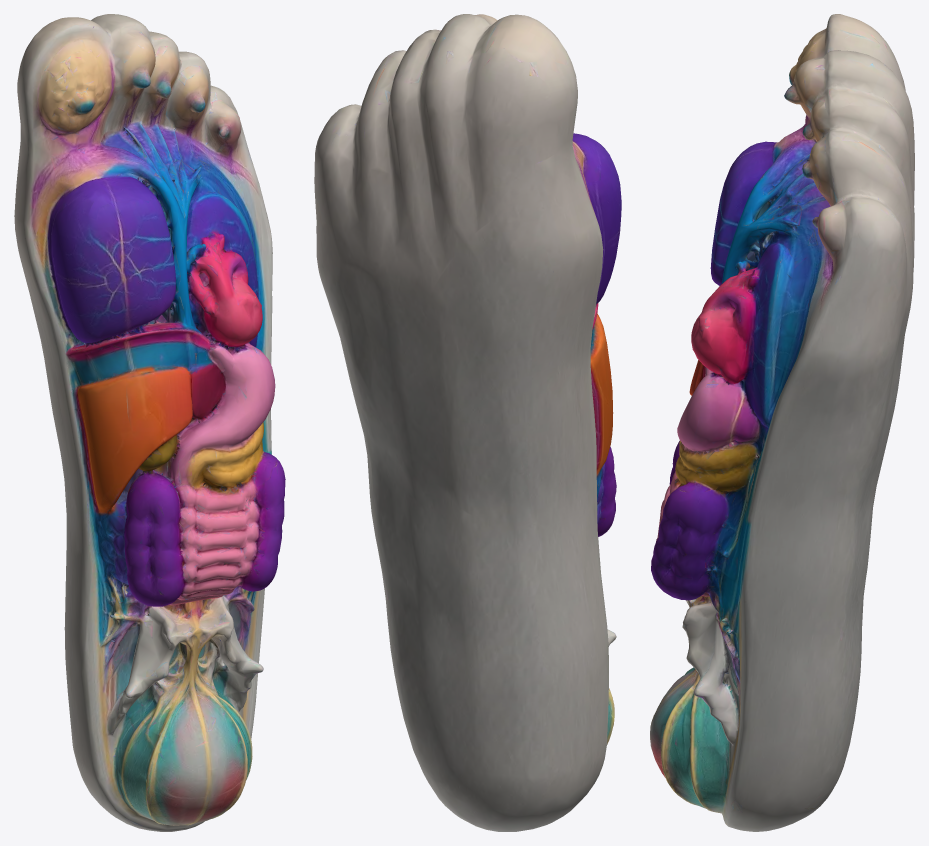
File: foot-organs.glb
3 renders of one model, left to right at view 1: azimuth 30°, elevation 25°; view 2: azimuth 150°, elevation 25°; view 3: azimuth 270°, elevation 25°, orthographic. The views are drawn at different scales.
Visible parts, largest first — view 1: Mesh_0; view 2: Mesh_0; view 3: Mesh_0.
Boxes of the visible parts, x1=… form: Mesh_0: x1=14, y1=14, x2=285, y2=831; Mesh_0: x1=314, y1=14, x2=621, y2=831; Mesh_0: x1=650, y1=14, x2=914, y2=831.
Size of the model in its own units: 0.6234 by 1.91 by 0.5875.
1 material, 1 textured.
